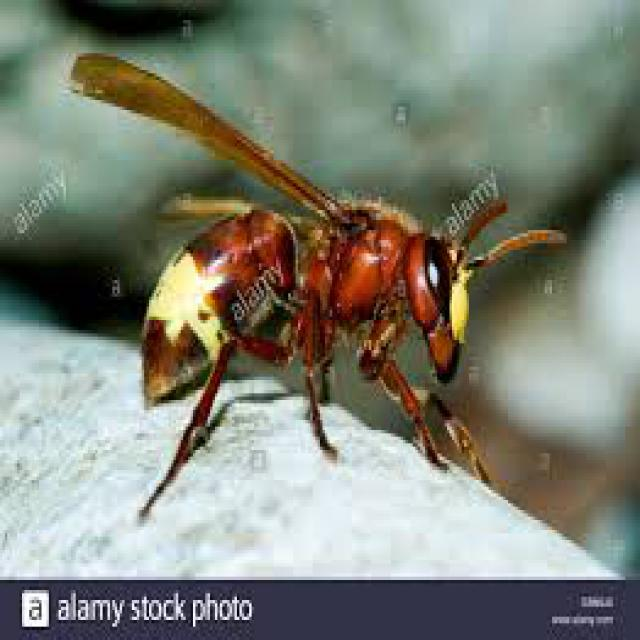Vespa Orientalis: (44, 34, 583, 535)
